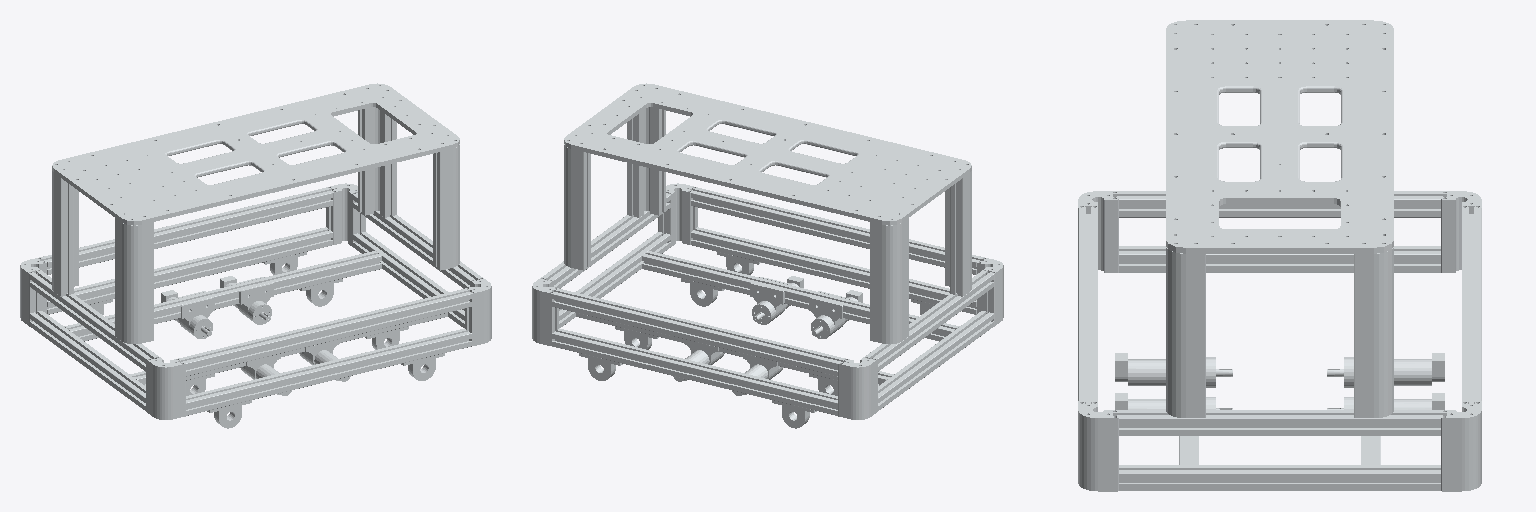
URDF robot description (mobile_table):
<robot
  name="mobile_table">
  <link
    name="mobile_base">
    <inertial>
      <origin
        xyz="-0.371094390052816 -1.63091762317436E-13 -0.174671140424926"
        rpy="0 0 0" />
      <mass
        value="13.363391022414" />
      <inertia
        ixx="0.761869319649775"
        ixy="3.59142562326433E-07"
        ixz="0.025155218029247"
        iyy="1.39353540704072"
        iyz="-4.9680225211457E-13"
        izz="1.35003893995088" />
    </inertial>
    <visual>
      <origin
        xyz="0 0 0"
        rpy="0 0 0" />
      <geometry>
        <mesh
          filename="package://mobile_table/meshes/mobile_base.STL" />
      </geometry>
      <material
        name="">
        <color
          rgba="0.898039215686275 0.917647058823529 0.929411764705882 1" />
      </material>
    </visual>
    <collision>
      <origin
        xyz="0 0 0"
        rpy="0 0 0" />
      <geometry>
        <mesh
          filename="package://mobile_table/meshes/mobile_base.STL" />
      </geometry>
    </collision>
  </link>
  <link
    name="Link_LF">
    <inertial>
      <origin
        xyz="-4.32951505480172E-07 -0.0500023835062627 4.94727951348695E-07"
        rpy="0 0 0" />
      <mass
        value="1.81564328582061" />
      <inertia
        ixx="0.00992143041094966"
        ixy="1.53566692471049E-08"
        ixz="-1.94383173852468E-08"
        iyy="0.0165532877838353"
        iyz="1.21063941383094E-08"
        izz="0.00992143577953462" />
    </inertial>
    <visual>
      <origin
        xyz="0 0 0"
        rpy="0 0 0" />
      <geometry>
        <mesh
          filename="package://mobile_table/meshes/Link_LF.STL" />
      </geometry>
      <material
        name="">
        <color
          rgba="0.792156862745098 0.819607843137255 0.933333333333333 1" />
      </material>
    </visual>
    <collision>
      <origin
        xyz="0 0 0"
        rpy="0 0 0" />
      <geometry>
        <mesh
          filename="package://mobile_table/meshes/Link_LF.STL" />
      </geometry>
    </collision>
  </link>
  <joint
    name="joint_LF"
    type="continuous">
    <origin
      xyz="-0.1295 0.26 -0.427"
      rpy="0 0 0" />
    <parent
      link="mobile_base" />
    <child
      link="Link_LF" />
    <axis
      xyz="0 1 0" />
  </joint>
  <link
    name="Link_LR">
    <inertial>
      <origin
        xyz="-1.03332086220931E-08 -0.0497638919022216 2.86188792074371E-08"
        rpy="0 0 0" />
      <mass
        value="1.78678294449153" />
      <inertia
        ixx="0.00977206649678278"
        ixy="-3.37433185139131E-08"
        ixz="2.92861911515802E-08"
        iyy="0.0163793618153137"
        iyz="-1.265039739069E-08"
        izz="0.00977199881676017" />
    </inertial>
    <visual>
      <origin
        xyz="0 0 0"
        rpy="0 0 0" />
      <geometry>
        <mesh
          filename="package://mobile_table/meshes/Link_LR.STL" />
      </geometry>
      <material
        name="">
        <color
          rgba="0.792156862745098 0.819607843137255 0.933333333333333 1" />
      </material>
    </visual>
    <collision>
      <origin
        xyz="0 0 0"
        rpy="0 0 0" />
      <geometry>
        <mesh
          filename="package://mobile_table/meshes/Link_LR.STL" />
      </geometry>
    </collision>
  </link>
  <joint
    name="joint_LR"
    type="continuous">
    <origin
      xyz="-0.5905 0.26 -0.427"
      rpy="0 0 0" />
    <parent
      link="mobile_base" />
    <child
      link="Link_LR" />
    <axis
      xyz="0 1 0" />
  </joint>
  <link
    name="Link_RR">
    <inertial>
      <origin
        xyz="4.94499633685308E-07 0.0500023830071637 4.36537898478723E-07"
        rpy="0 0 0" />
      <mass
        value="1.81564328444565" />
      <inertia
        ixx="0.00992143529241466"
        ixy="1.3366091147259E-08"
        ixz="1.93197266089131E-08"
        iyy="0.0165532876133226"
        iyz="-1.41295789697231E-08"
        izz="0.00992143066252636" />
    </inertial>
    <visual>
      <origin
        xyz="0 0 0"
        rpy="0 0 0" />
      <geometry>
        <mesh
          filename="package://mobile_table/meshes/Link_RR.STL" />
      </geometry>
      <material
        name="">
        <color
          rgba="0.792156862745098 0.819607843137255 0.933333333333333 1" />
      </material>
    </visual>
    <collision>
      <origin
        xyz="0 0 0"
        rpy="0 0 0" />
      <geometry>
        <mesh
          filename="package://mobile_table/meshes/Link_RR.STL" />
      </geometry>
    </collision>
  </link>
  <joint
    name="joint_RR"
    type="continuous">
    <origin
      xyz="-0.5905 -0.26 -0.427"
      rpy="1.5174E-32 1.5174E-32 1.2391E-16" />
    <parent
      link="mobile_base" />
    <child
      link="Link_RR" />
    <axis
      xyz="0 1 0" />
  </joint>
  <link
    name="Link_RF">
    <inertial>
      <origin
        xyz="2.24923252800657E-08 0.0497638925426117 2.09669078488073E-08"
        rpy="0 0 0" />
      <mass
        value="1.78678295277665" />
      <inertia
        ixx="0.00977203231772132"
        ixy="-2.5513309488964E-08"
        ixz="-4.46702296495044E-08"
        iyy="0.0163793619436232"
        iyz="2.58413651724771E-08"
        izz="0.00977203323393661" />
    </inertial>
    <visual>
      <origin
        xyz="0 0 0"
        rpy="0 0 0" />
      <geometry>
        <mesh
          filename="package://mobile_table/meshes/Link_RF.STL" />
      </geometry>
      <material
        name="">
        <color
          rgba="0.792156862745098 0.819607843137255 0.933333333333333 1" />
      </material>
    </visual>
    <collision>
      <origin
        xyz="0 0 0"
        rpy="0 0 0" />
      <geometry>
        <mesh
          filename="package://mobile_table/meshes/Link_RF.STL" />
      </geometry>
    </collision>
  </link>
  <joint
    name="joint_RF"
    type="continuous">
    <origin
      xyz="-0.1295 -0.26 -0.427"
      rpy="1.51744539447198E-32 1.51744539447198E-32 1.23908819712629E-16" />
    <parent
      link="mobile_base" />
    <child
      link="Link_RF" />
    <axis
      xyz="0 1 0" />
  </joint>
</robot>

--- Render facts (derived) ---
Views: 3 orthographic renders of the robot side by side, from view 1: azimuth 30°, elevation 25°; view 2: azimuth 150°, elevation 25°; view 3: azimuth 270°, elevation 25°.
Robot: mobile_table — 5 links, 4 joints (4 continuous); root link mobile_base; default pose: every joint at zero.
Visible links, largest first — view 1: mobile_base; view 2: mobile_base; view 3: mobile_base.
Link boxes in pixels (x1=…): mobile_base: x1=20, y1=83, x2=491, y2=428; mobile_base: x1=532, y1=83, x2=1003, y2=428; mobile_base: x1=1078, y1=20, x2=1481, y2=491.
Size in the robot's own frame: 0.8 by 0.6 by 0.4545 metres.
1 mesh visuals loaded from 5 distinct referenced files (1 binary STL); not drawn: 4 (reference not matched to a file when rendering).